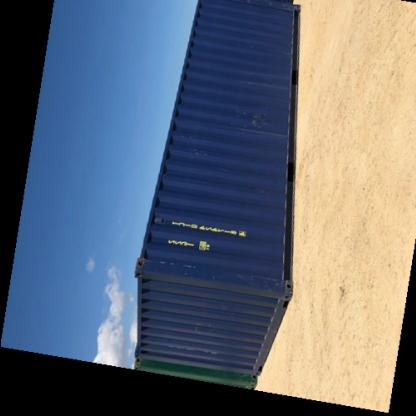Damage: (138, 255, 286, 299), (241, 106, 277, 128)
